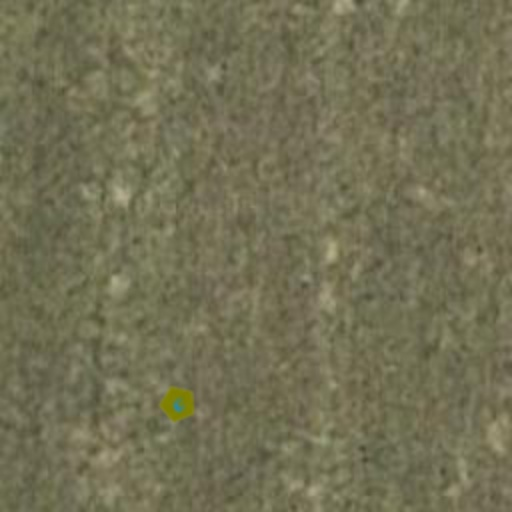pentagon: (150, 376, 206, 432)
